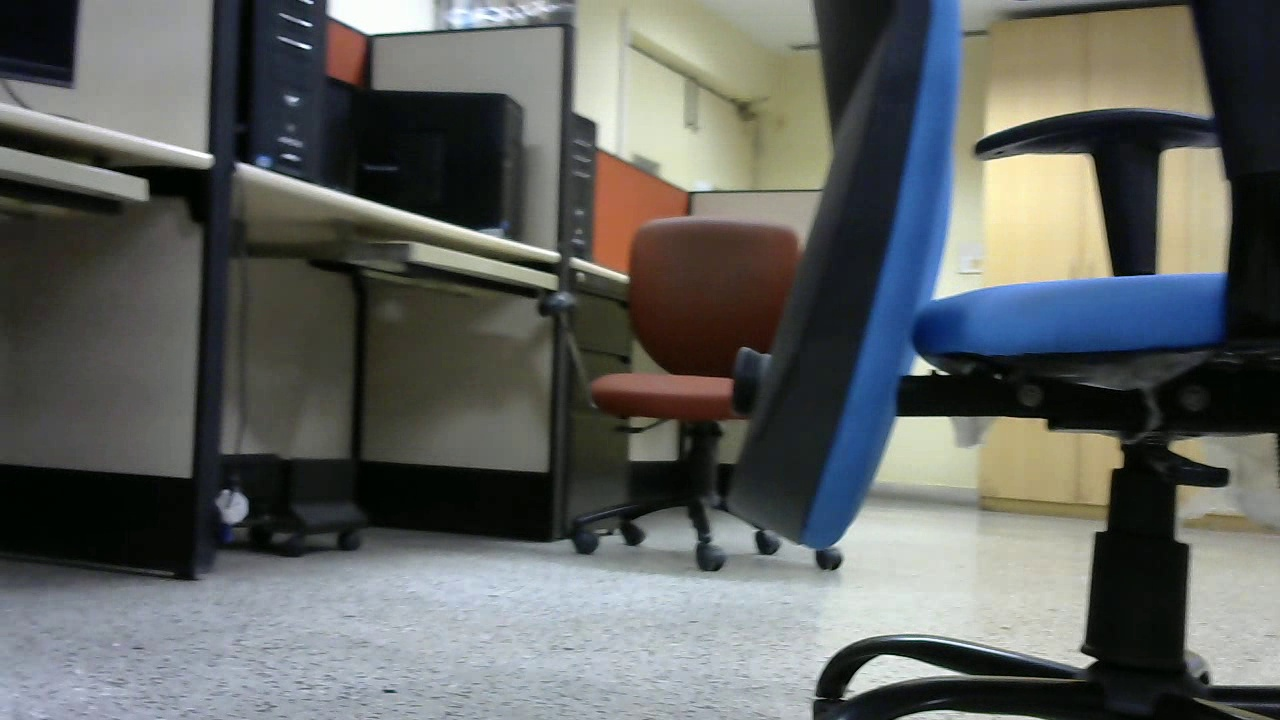chair: (29, 1, 436, 621)
